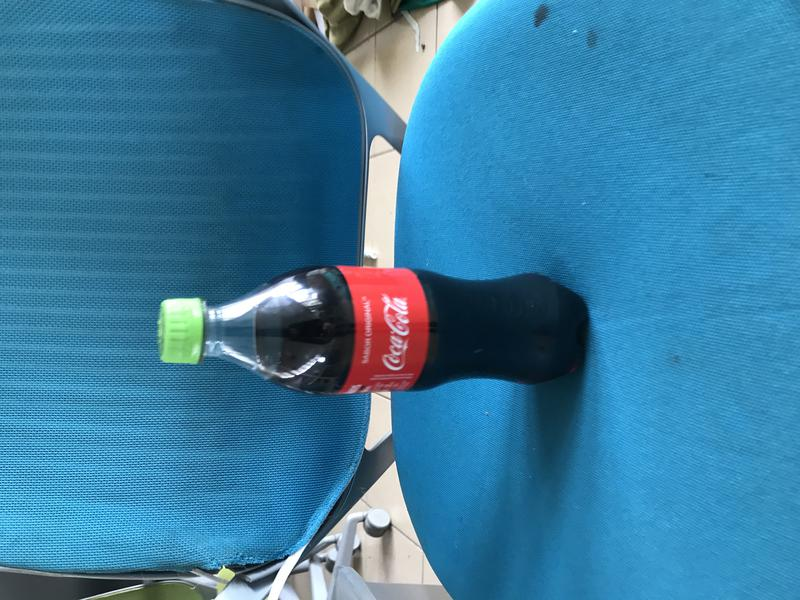coca_cola: (157, 263, 590, 394)
